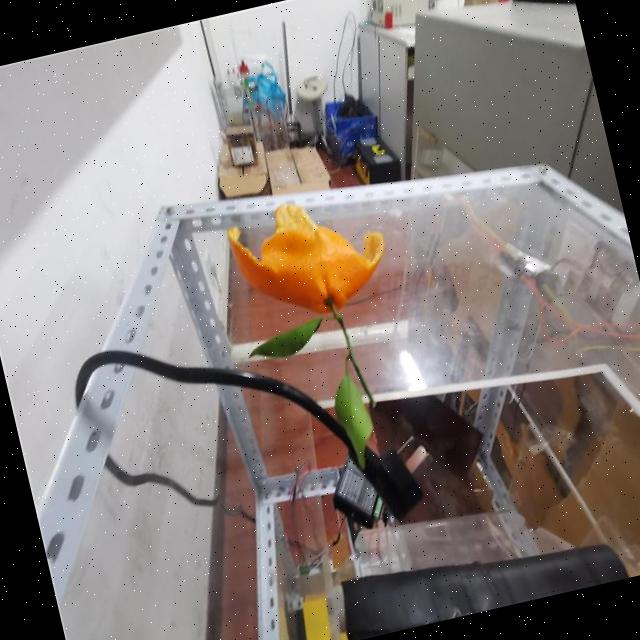orange-peel: (220, 181, 397, 333)
